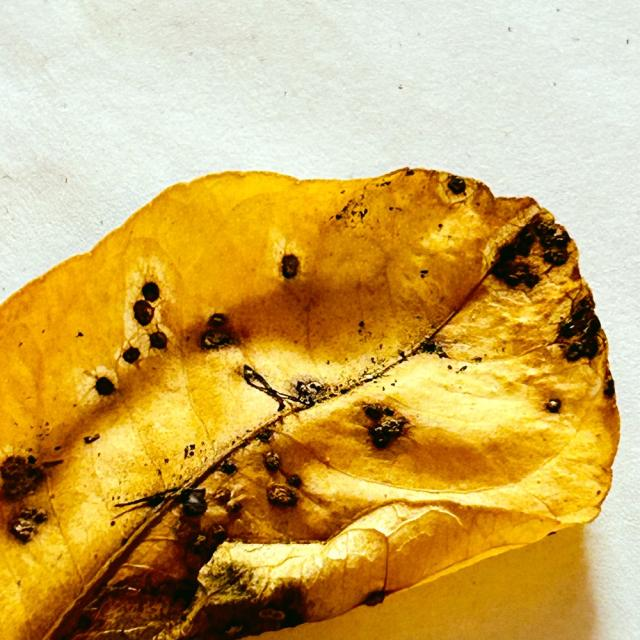DryLeaf_Lemon: (0, 168, 619, 639)
